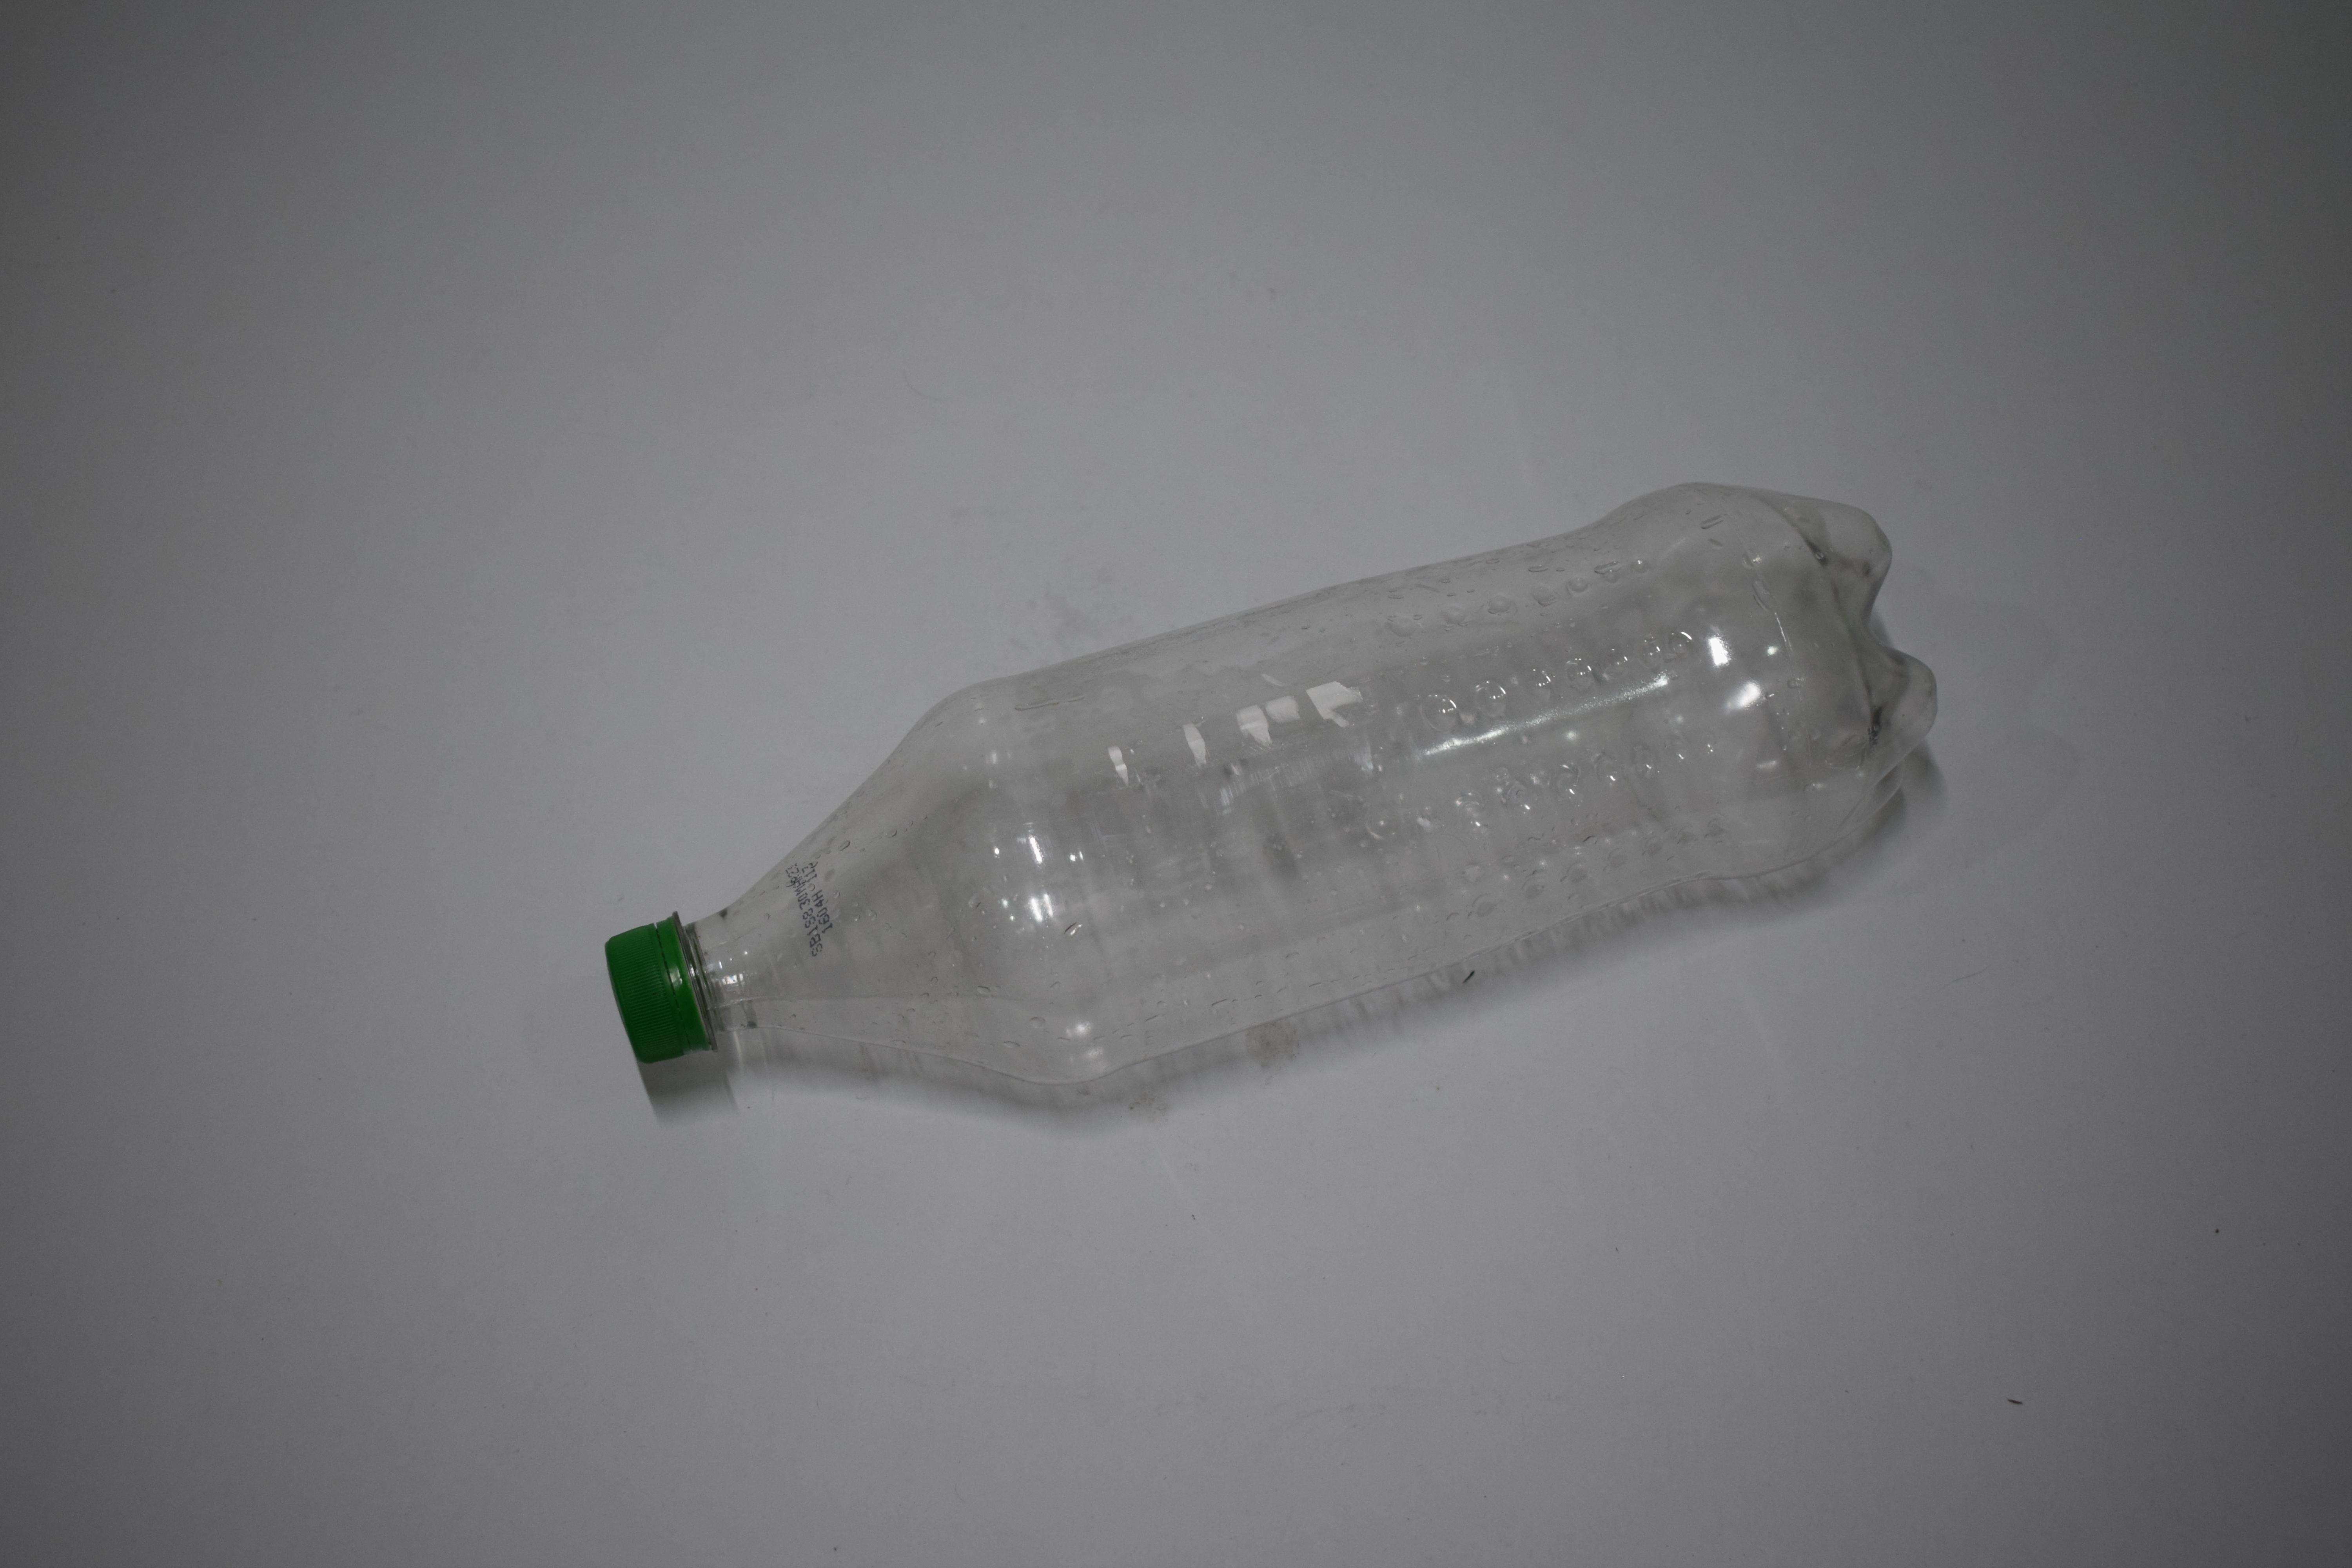bottle: (12, 0, 184, 329)
